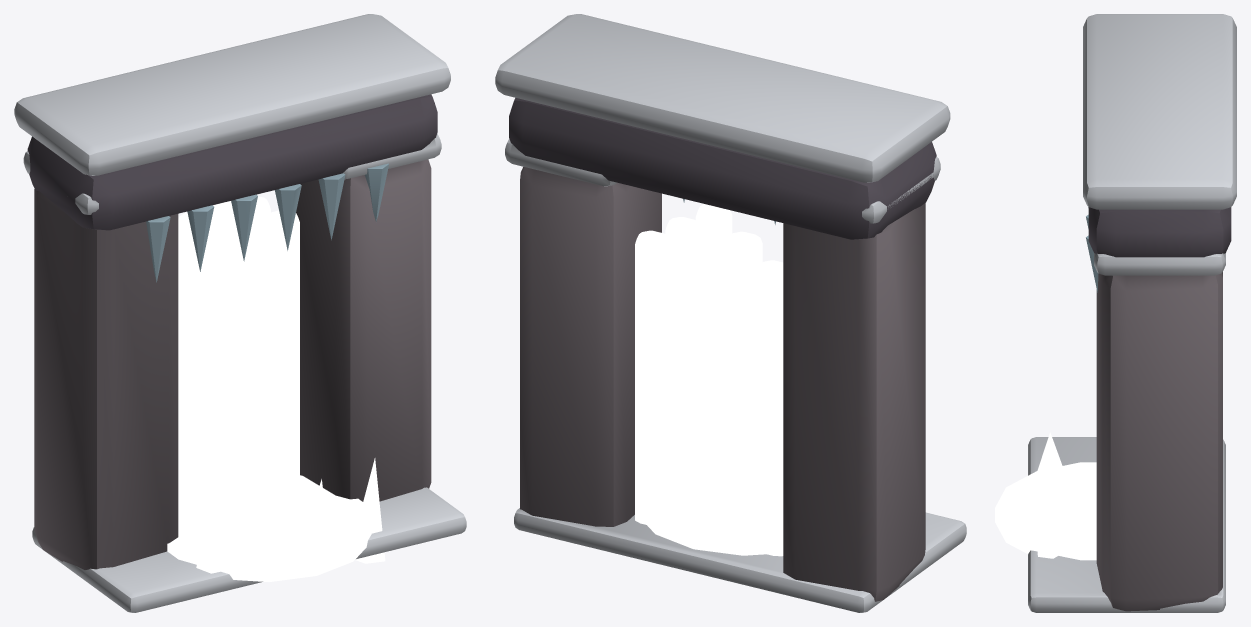
Rendered from lm_frost.glb.
3 renders of one model, left to right at view 1: azimuth 30°, elevation 25°; view 2: azimuth 150°, elevation 25°; view 3: azimuth 270°, elevation 25°, orthographic. The views are drawn at different scales.
Visible parts, largest first — view 1: body, ice_glow; view 2: body, ice_glow; view 3: body, ice_glow.
Boxes of the visible parts, <box> form: body: <box>14,14,466,612</box>; ice_glow: <box>167,196,385,581</box>; body: <box>495,14,966,612</box>; ice_glow: <box>635,204,783,556</box>; body: <box>1028,14,1236,612</box>; ice_glow: <box>995,432,1096,560</box>.
Size of the model in its own units: 7.6 by 8.99 by 4.4.
